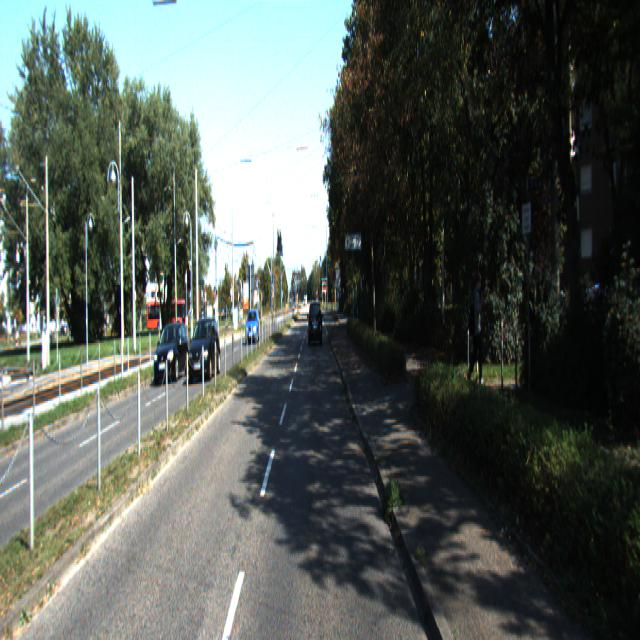Car: (154, 322, 190, 385), (188, 315, 221, 380), (309, 300, 323, 348), (246, 310, 260, 344)
